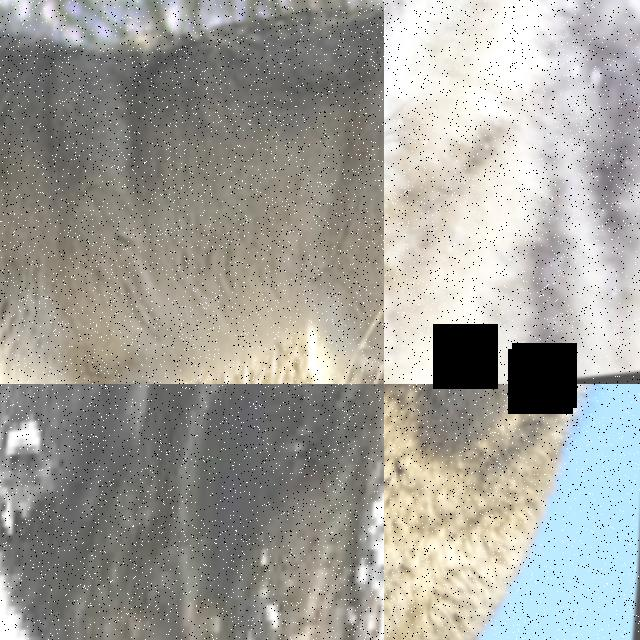wolf: (0, 0, 384, 384), (384, 0, 640, 384), (0, 384, 384, 640), (384, 384, 640, 640)
